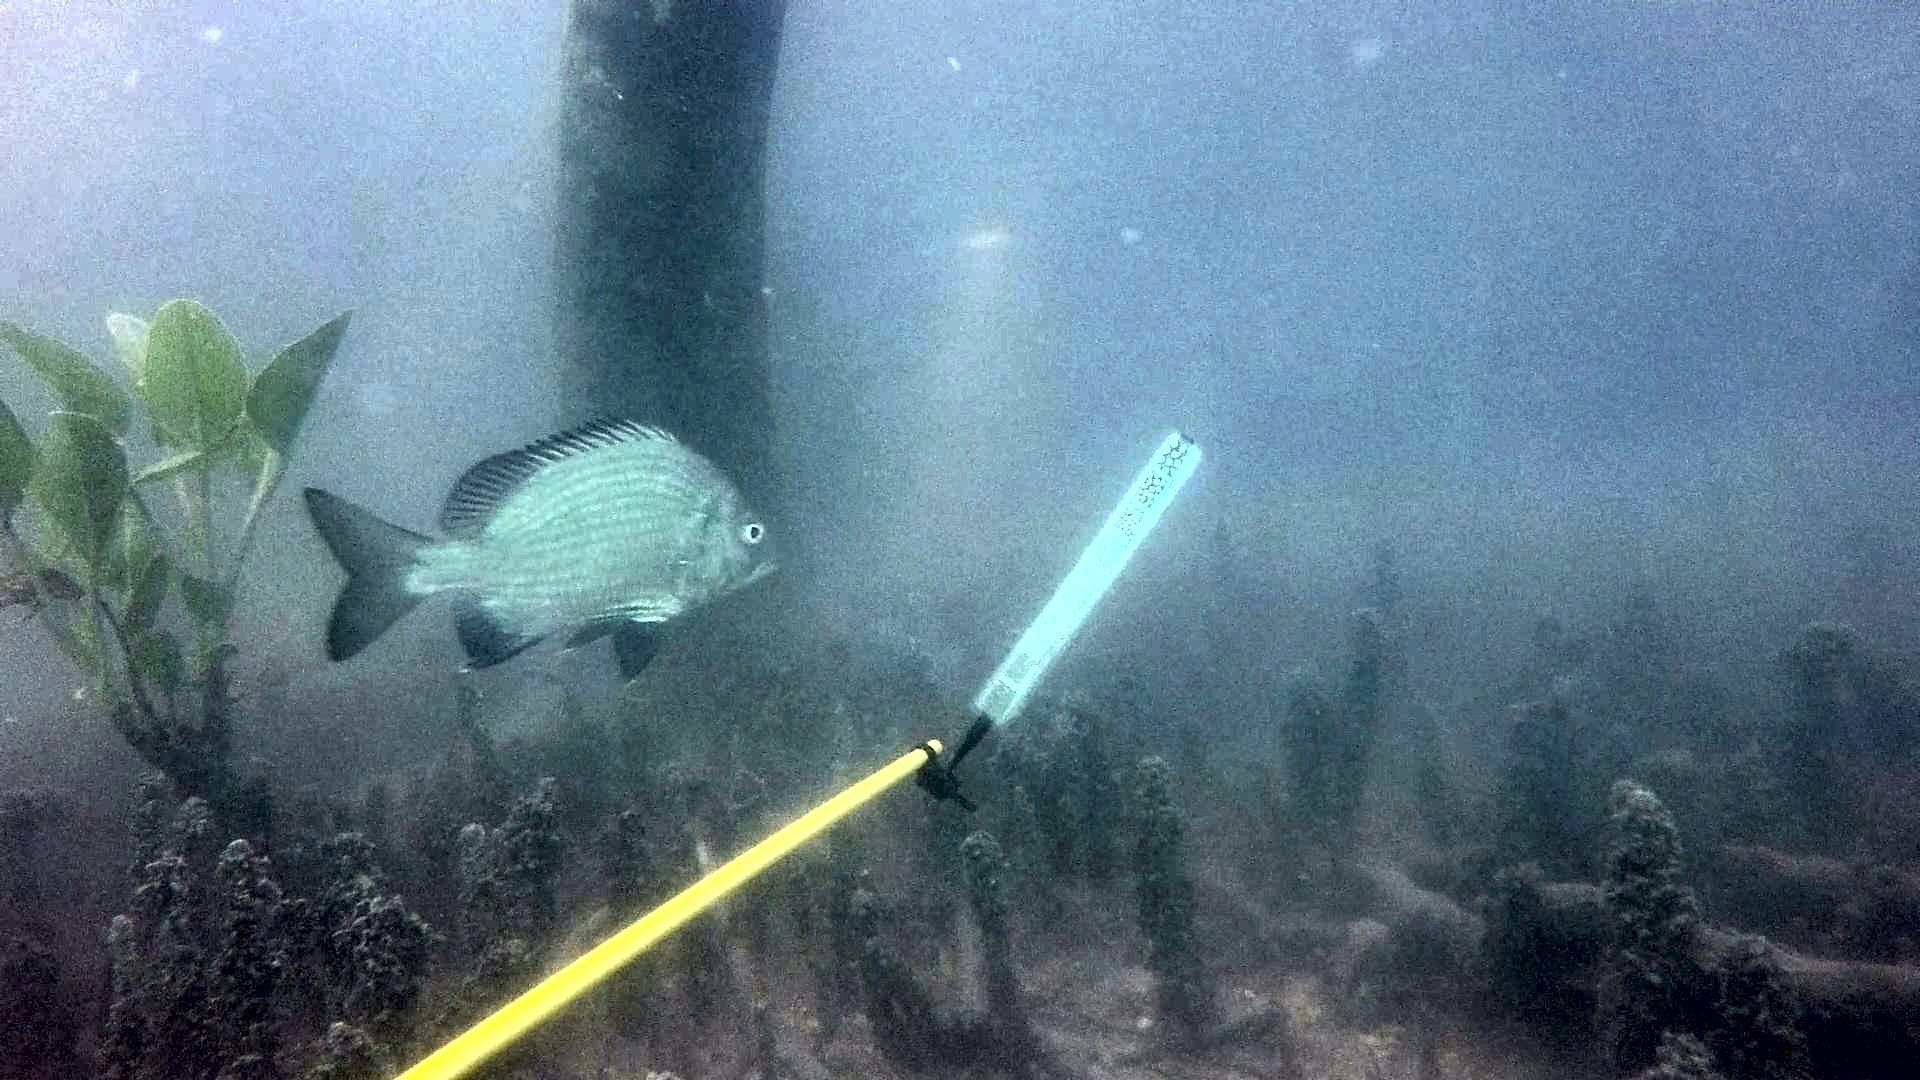acanthopagrus palmaris: (293, 403, 794, 699)
